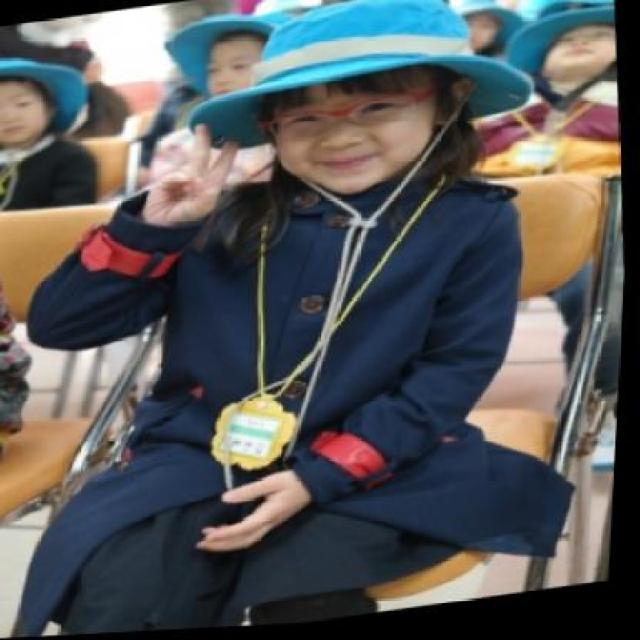hat: (190, 0, 540, 155)
